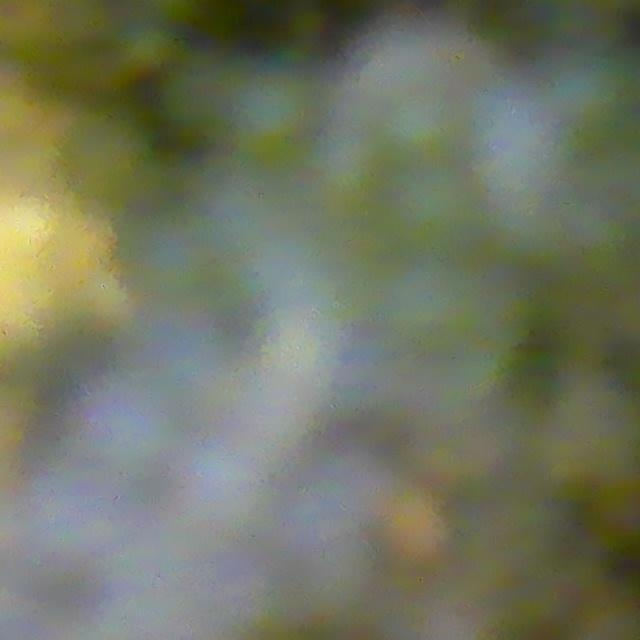SeaGrape: (98, 375, 199, 476), (0, 485, 79, 600), (308, 461, 408, 551), (193, 528, 288, 614), (389, 163, 479, 252), (279, 533, 370, 619), (61, 418, 136, 518), (230, 69, 317, 151), (383, 87, 463, 166)
